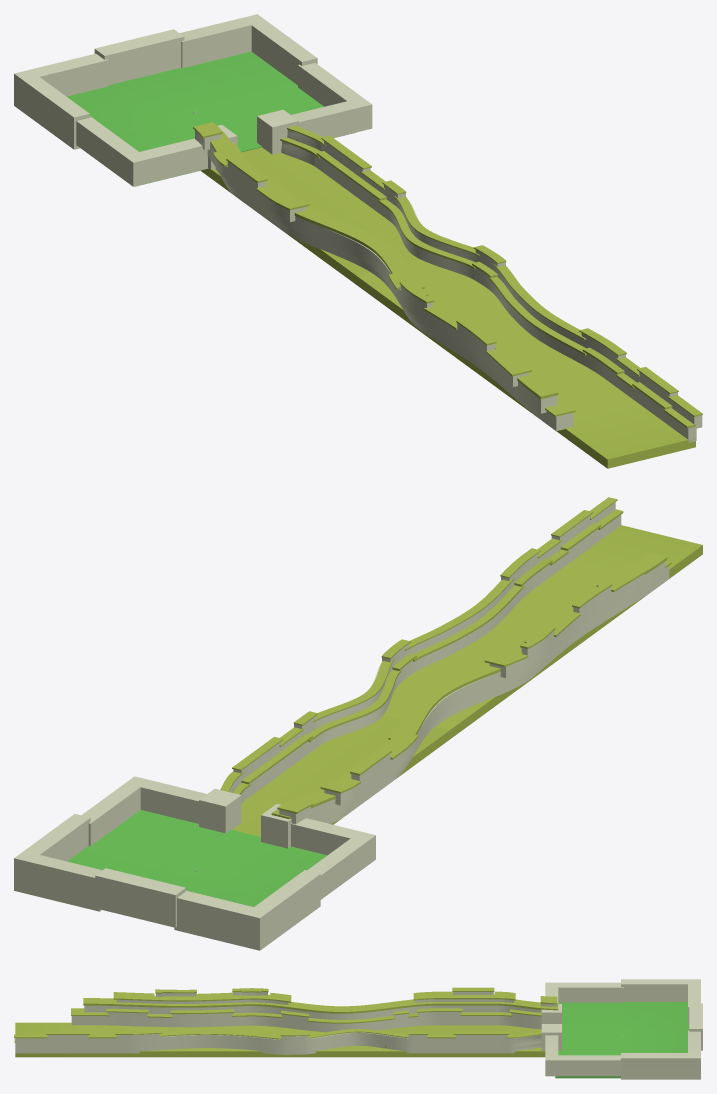
The model's file is Map.fbx.
3 renders of one model, top to bottom at view 1: azimuth 30°, elevation 25°; view 2: azimuth 150°, elevation 25°; view 3: azimuth 270°, elevation 25°, orthographic. The views are drawn at different scales.
Parts seen in each view (by area): view 1: Lane_1, Cube, Cube.003, Biom_1_wall.001, Cube.008, Cube.006, Biom_1_wall.009, Biom_1_wall.007, Biom_1_wall.008, Biom_1_wall.003, Cube.007, Biom_1_wall.004 (+5 smaller); view 2: Lane_1, Cube, Cube.003, Cube.008, Biom_1_wall.001, Biom_1_wall.007, Biom_1_wall.009, Cube.007, Biom_1_wall.008, Biom_1_wall.004, Cube.006, Cube.010 (+6 smaller); view 3: Lane_1, Cube, Biom_1_wall.003, Biom_1_wall, Biom_1_wall.001, Biom_1_wall.006, Biom_1_wall.007, Biom_1_wall.002, Cube.008, Biom_1_wall.009, Biom_1_wall.005, Cube.007 (+6 smaller).
Part boxes in pixels (left/top/right/bottom): Lane_1: left=201, top=147, right=695, bottom=468; Cube: left=67, top=51, right=355, bottom=186; Cube.003: left=14, top=53, right=108, bottom=149; Biom_1_wall.001: left=281, top=141, right=696, bottom=442; Cube.008: left=180, top=14, right=317, bottom=85; Cube.006: left=76, top=116, right=208, bottom=186; Biom_1_wall.009: left=287, top=125, right=702, bottom=416; Biom_1_wall.007: left=193, top=122, right=531, bottom=376; Biom_1_wall.008: left=280, top=137, right=695, bottom=428; Biom_1_wall.003: left=287, top=129, right=702, bottom=428; Cube.007: left=291, top=63, right=372, bottom=137; Biom_1_wall.004: left=195, top=130, right=528, bottom=386; Lane_1: left=232, top=525, right=702, bottom=836; Cube: left=67, top=809, right=327, bottom=906; Cube.003: left=174, top=870, right=320, bottom=950; Cube.008: left=14, top=814, right=102, bottom=911; Biom_1_wall.001: left=240, top=515, right=621, bottom=803; Biom_1_wall.007: left=277, top=564, right=649, bottom=813; Biom_1_wall.009: left=220, top=497, right=617, bottom=791; Cube.007: left=81, top=776, right=206, bottom=846; Biom_1_wall.008: left=233, top=509, right=623, bottom=794; Biom_1_wall.004: left=279, top=574, right=644, bottom=824; Cube.006: left=291, top=818, right=375, bottom=899; Cube.010: left=95, top=868, right=185, bottom=927; Lane_1: left=15, top=1022, right=545, bottom=1057; Cube: left=555, top=1002, right=689, bottom=1078; Biom_1_wall.003: left=15, top=1032, right=541, bottom=1048; Biom_1_wall: left=71, top=1012, right=541, bottom=1032; Biom_1_wall.001: left=15, top=1041, right=541, bottom=1054; Biom_1_wall.006: left=83, top=998, right=558, bottom=1013; Biom_1_wall.007: left=113, top=987, right=557, bottom=1004; Biom_1_wall.002: left=84, top=1005, right=541, bottom=1019; Cube.008: left=621, top=1030, right=700, bottom=1079; Biom_1_wall.009: left=14, top=1029, right=541, bottom=1039; Biom_1_wall.005: left=71, top=1008, right=541, bottom=1023; Cube.007: left=545, top=1035, right=620, bottom=1076.
Size of the model in its own units: 27578 by 5577 by 101711.
Materials: 3 (3 with a texture image).
